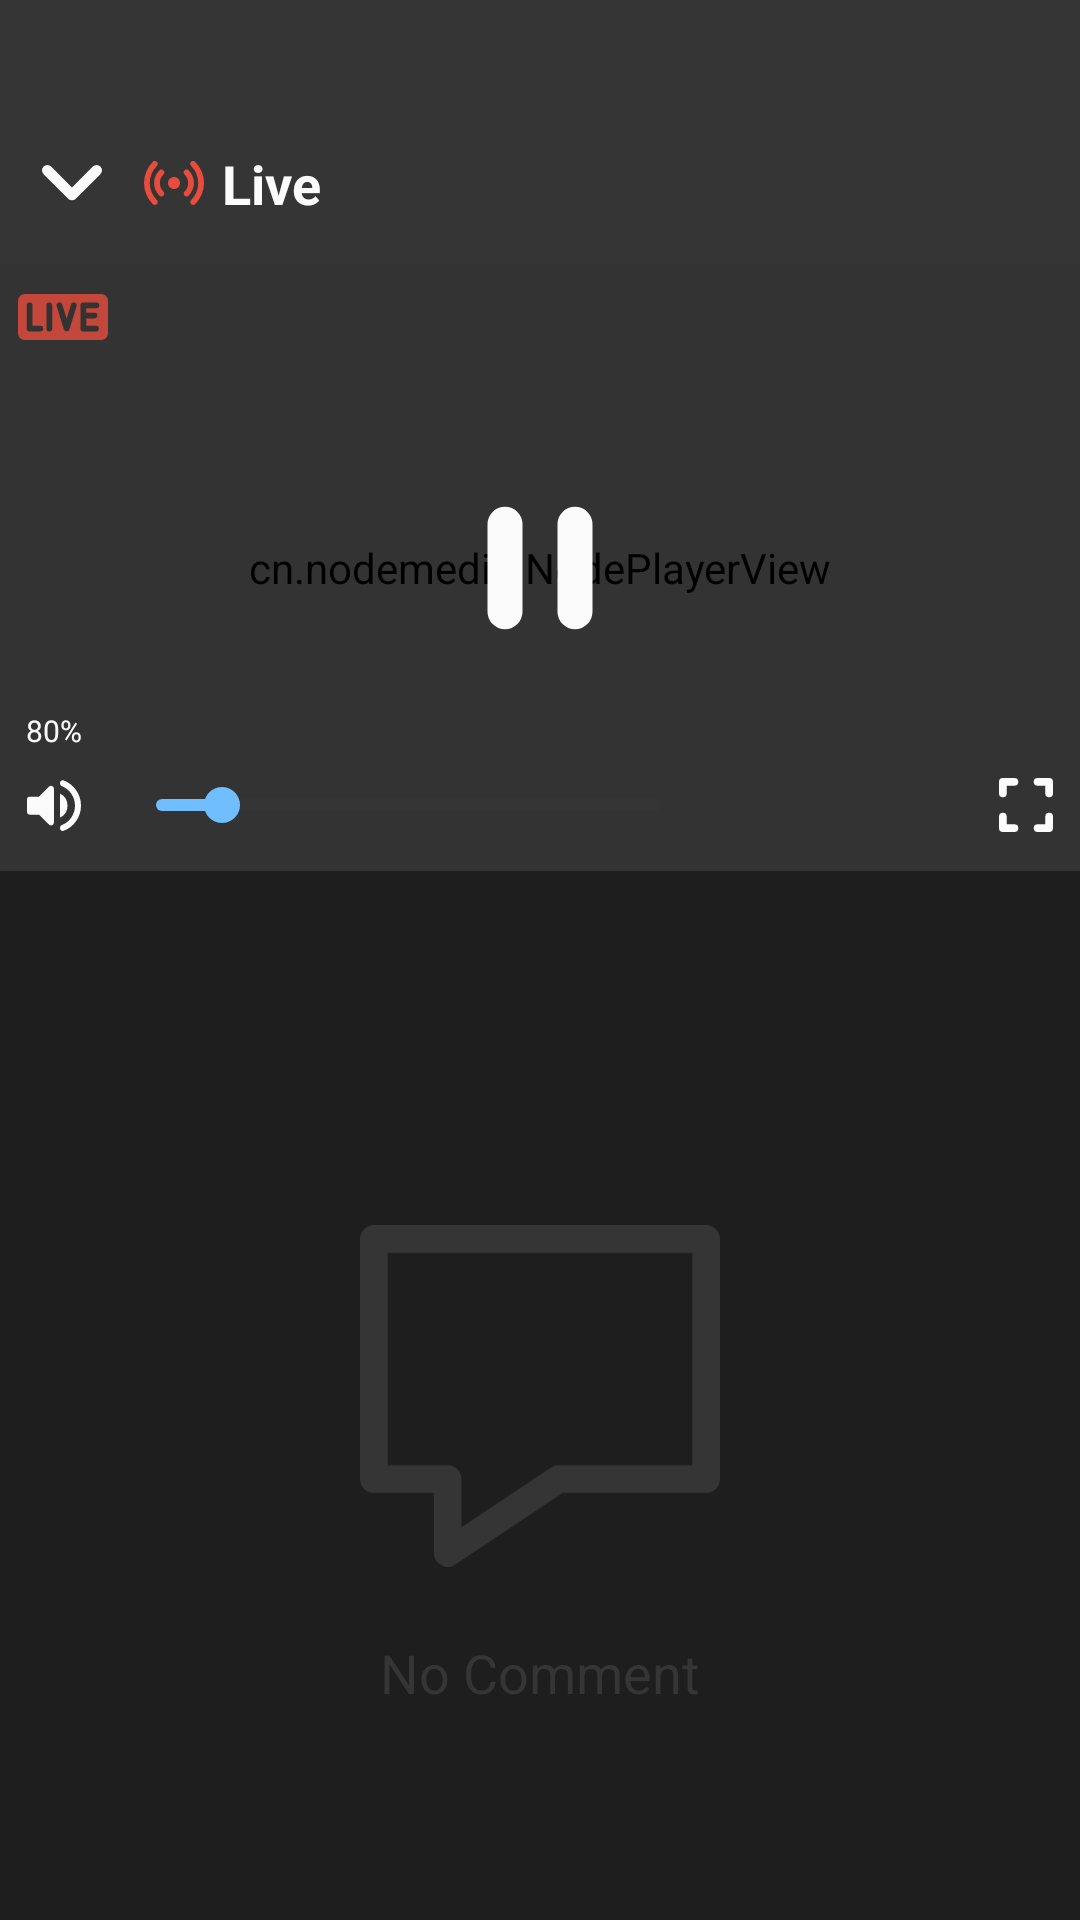

Named icons in this screenshot (1080px×1920px) and their bounding boxes, (x1, y1, x2, y2):
broadcast: (144, 161, 204, 205)
collapse: (42, 165, 102, 201)
fullscreen: (999, 778, 1053, 832)
volume up: (27, 780, 81, 831)
